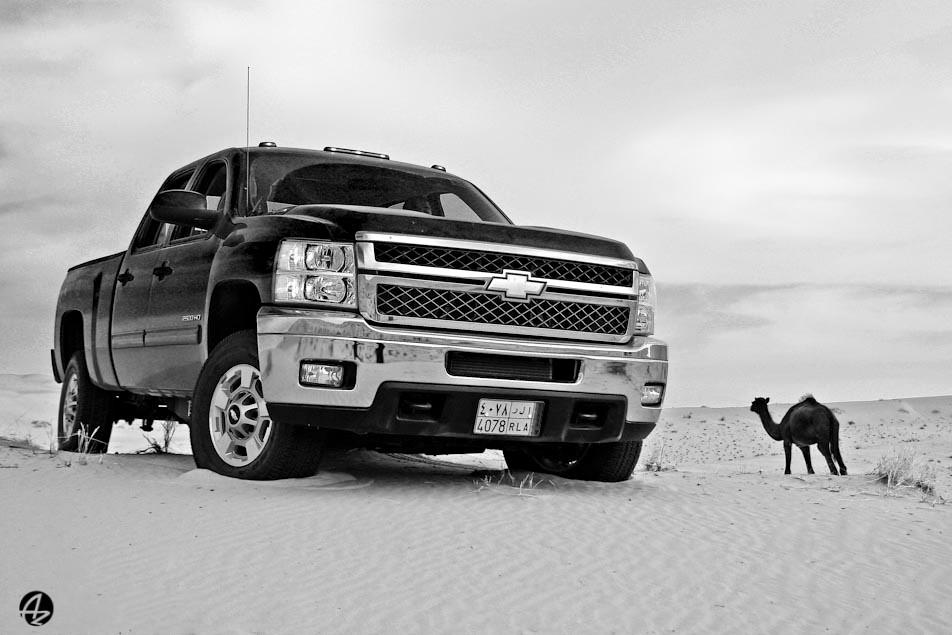car: (50, 141, 670, 484)
